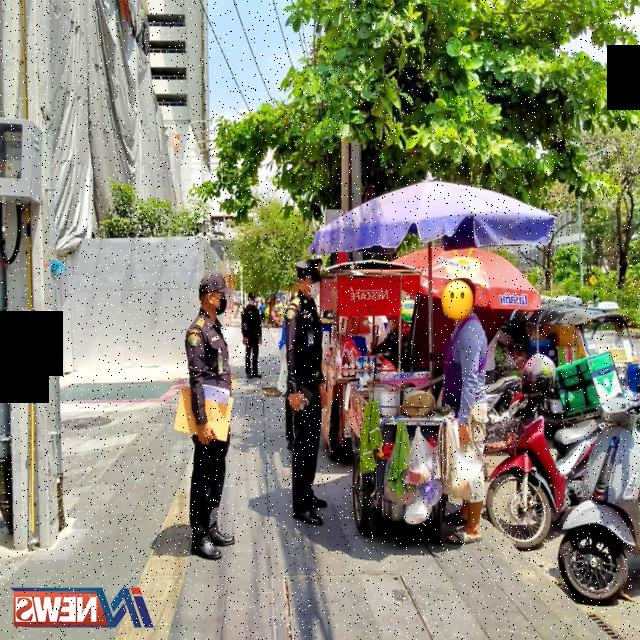food-booth: (308, 181, 555, 539), (319, 265, 421, 458)
